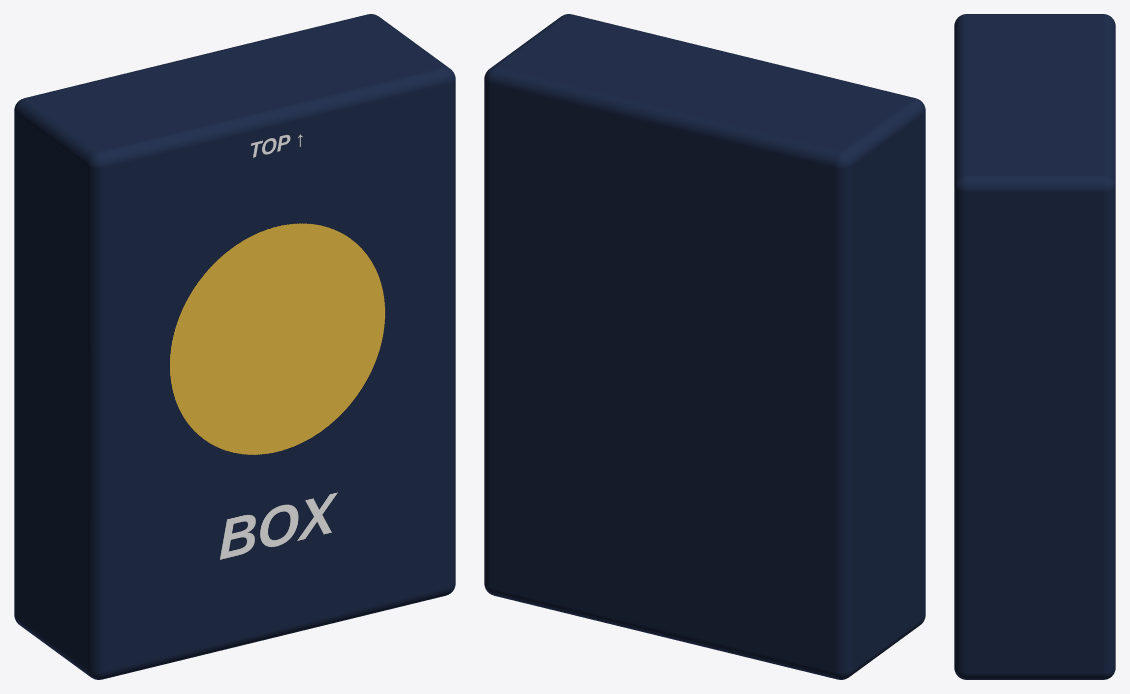
File: package-box.glb
The picture shows the model from 3 angles, left to right: view 1: azimuth 30°, elevation 25°; view 2: azimuth 150°, elevation 25°; view 3: azimuth 270°, elevation 25°; orthographic projection. The views are drawn at different scales.
Visible parts, largest first — view 1: front, body; view 2: body; view 3: body, front.
Part boxes in pixels (bbox=[...]): front: bbox=[95, 73, 455, 678]; body: bbox=[14, 14, 455, 679]; body: bbox=[484, 14, 925, 679]; body: bbox=[958, 14, 1115, 679]; front: bbox=[954, 18, 959, 676].
Bounding box in the file's own units: 0.8 × 1.1 × 0.32.
2 materials, 1 textured.
